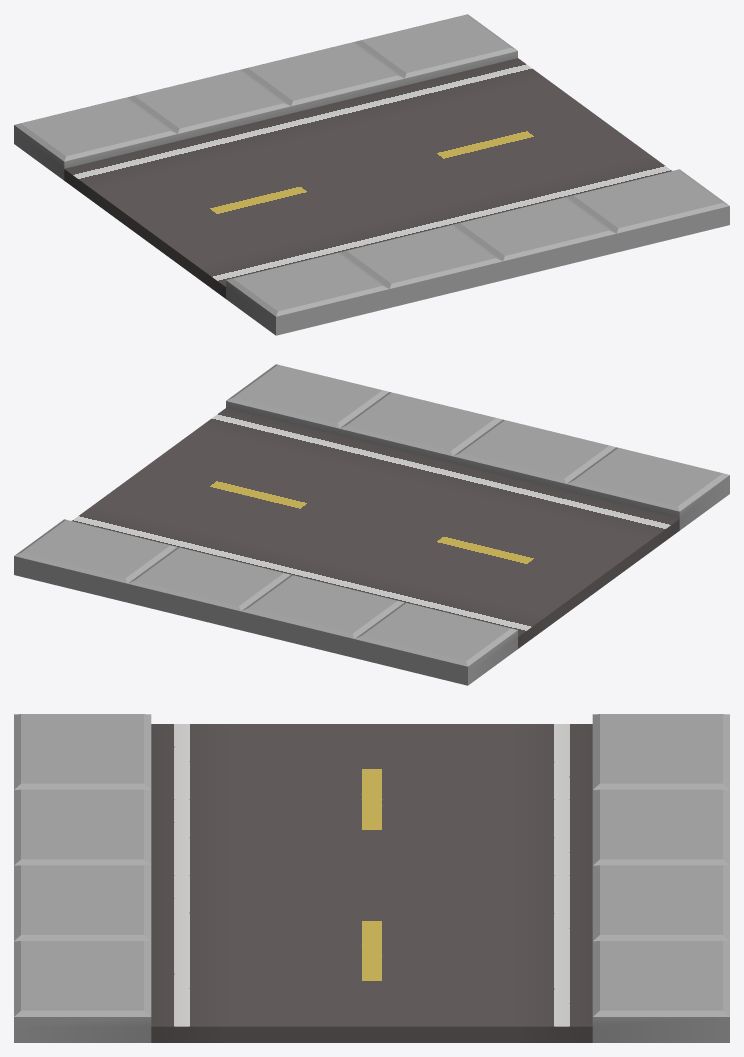
File: road_straight.glb
3 views of the same model, one above another, from view 1: azimuth 30°, elevation 25°; view 2: azimuth 150°, elevation 25°; view 3: azimuth 270°, elevation 25° (orthographic). The views are drawn at different scales.
Parts seen in each view (by area): view 1: straight1-col; view 2: straight1-col; view 3: straight1-col.
Boxes of the visible parts, box(x1,y1,x2,y2) form: straight1-col: box(14, 14, 729, 335); straight1-col: box(14, 364, 729, 685); straight1-col: box(14, 714, 729, 1042).
Bounding box in the file's own units: 10 × 0.45 × 10.
4 materials, 3 textured.
